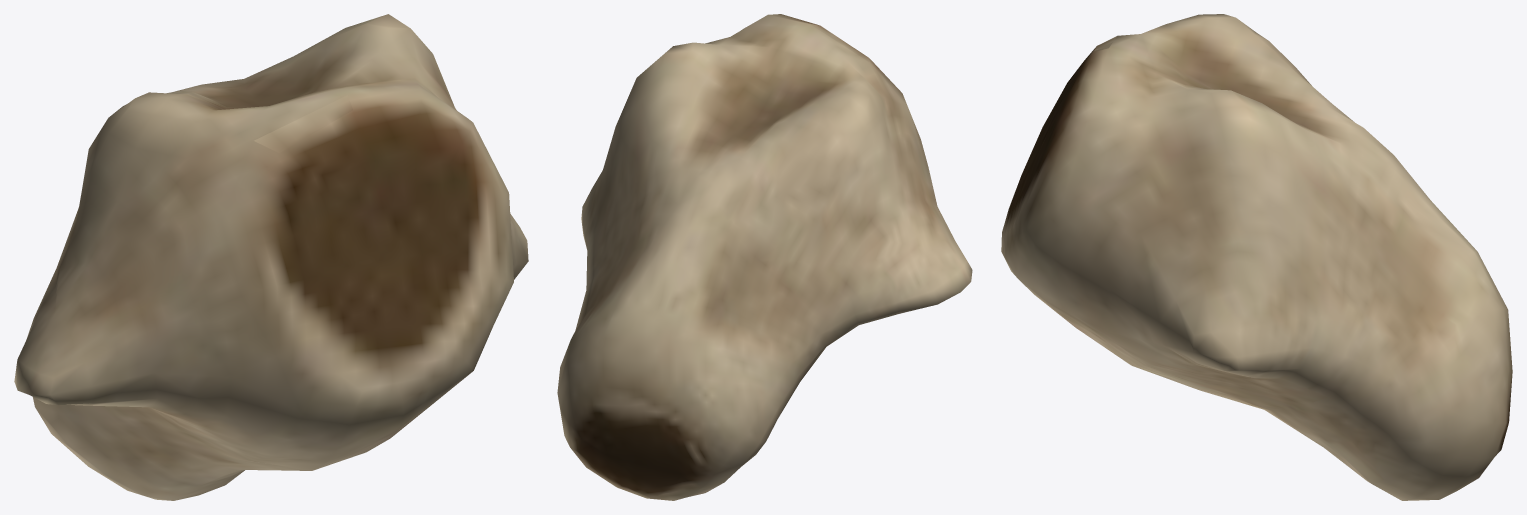
File: Caudal_Vertebrae2.glb
3 renders of one model, left to right at view 1: azimuth 30°, elevation 25°; view 2: azimuth 150°, elevation 25°; view 3: azimuth 270°, elevation 25°, orthographic. The views are drawn at different scales.
Parts seen in each view (by area): view 1: Caudal_Vertebrae_03; view 2: Caudal_Vertebrae_03; view 3: Caudal_Vertebrae_03.
Boxes of the visible parts, box(x1,y1,x2,y2) form: Caudal_Vertebrae_03: box(14, 14, 528, 500); Caudal_Vertebrae_03: box(557, 14, 972, 500); Caudal_Vertebrae_03: box(1001, 14, 1512, 500).
Size of the model in its own units: 0.0371 by 0.0369 by 0.039.
Materials: 1 (1 with a texture image).
